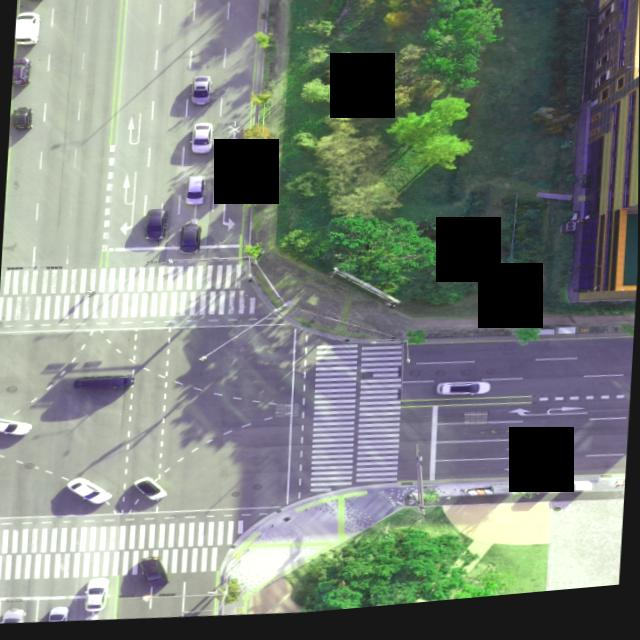car: (69, 370, 142, 400), (64, 478, 113, 509), (434, 387, 493, 410), (13, 10, 41, 48), (133, 479, 169, 507), (135, 556, 166, 588), (83, 578, 110, 613), (0, 414, 34, 440), (144, 212, 170, 245), (178, 226, 202, 258), (191, 128, 214, 158), (11, 54, 31, 87), (184, 179, 205, 209), (191, 79, 212, 108), (10, 106, 32, 133), (2, 605, 27, 625), (50, 605, 73, 624), (19, 0, 46, 4)
